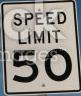Speed Limit -50-: (0, 1, 80, 95)
